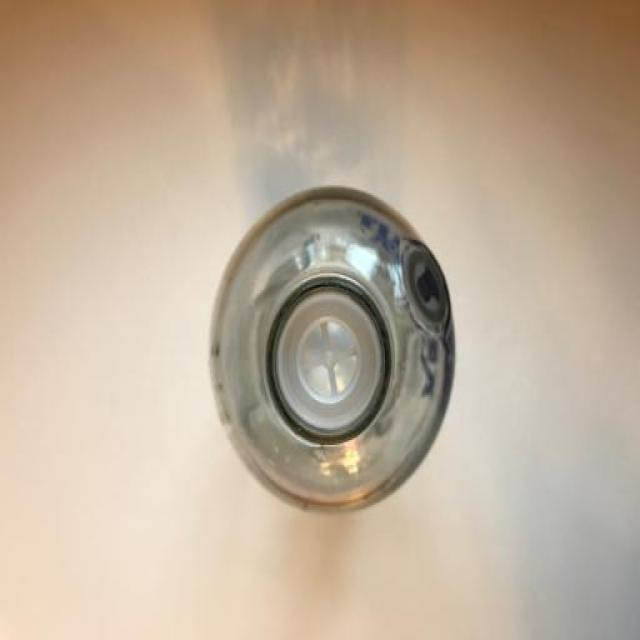glass: (200, 177, 464, 573)
